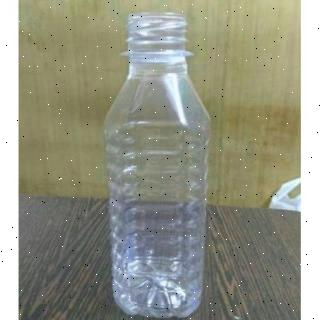Plastic-bottle: (103, 7, 213, 320)
